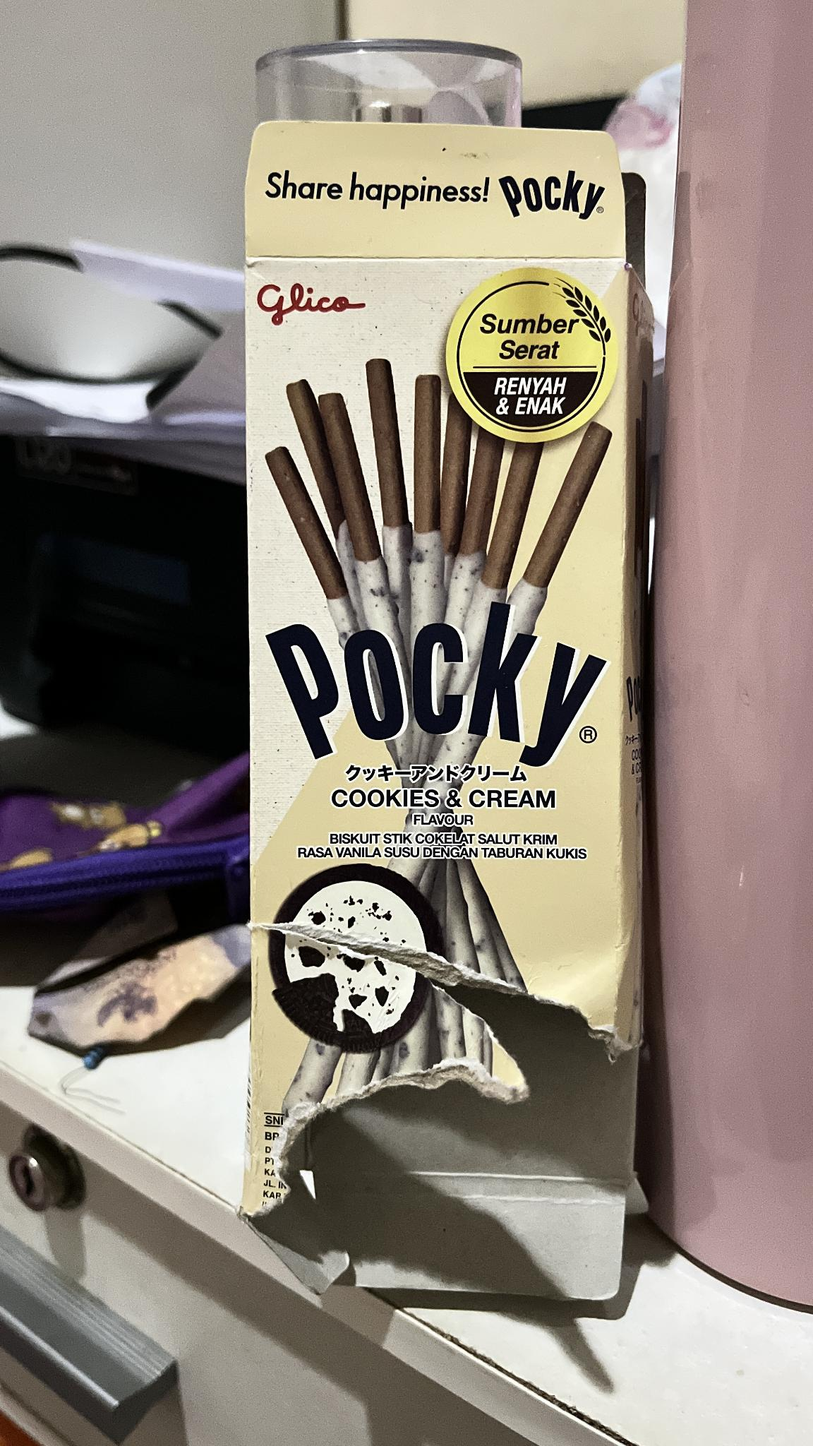Kertas: (244, 255, 638, 1187)
